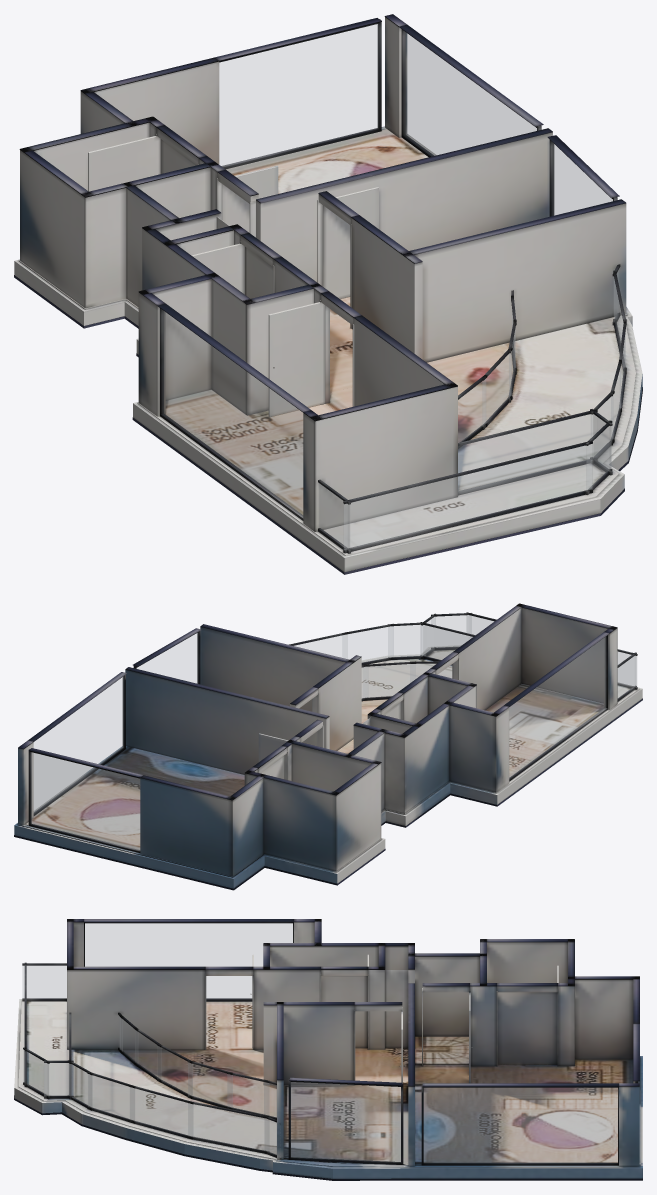
3 views of the same model, one above another, from view 1: azimuth 30°, elevation 25°; view 2: azimuth 150°, elevation 25°; view 3: azimuth 270°, elevation 25° (orthographic). The views are drawn at different scales.
Parts seen in each view (by area): view 1: plan, glass0_m, glass3_m, railg9_m, glass1_m, railg8_m, glass2_m, railg17_m, railg3_m, railg2_m, railg18_m; view 2: plan, glass0_m, glass3_m, glass1_m, glass2_m, railg13_m, railg3_m, railg14_m, railg8_m, railg18_m, railg9_m, railg12_m (+1 smaller); view 3: plan, glass1_m, glass3_m, glass2_m, railg11_m, railg12_m, railg13_m, railg4_m, railg17_m, railg5_m, railg3_m, railg15_m (+6 smaller).
Part boxes in pixels (box(x1,y1,x2,y2)): plan: box(14, 14, 642, 574); glass0_m: box(219, 24, 378, 166); glass3_m: box(162, 310, 302, 516); railg9_m: box(344, 444, 592, 549); glass1_m: box(404, 31, 536, 155); railg8_m: box(458, 414, 596, 491); glass2_m: box(552, 143, 612, 215); railg17_m: box(319, 483, 349, 549); railg3_m: box(482, 351, 511, 425); railg2_m: box(458, 379, 485, 442); railg18_m: box(586, 426, 610, 491); plan: box(14, 603, 642, 890); glass0_m: box(31, 752, 139, 850); glass3_m: box(509, 637, 605, 778); glass1_m: box(34, 677, 123, 812); glass2_m: box(137, 633, 197, 683); railg13_m: box(342, 626, 393, 662); railg3_m: box(363, 664, 415, 697); railg14_m: box(388, 625, 425, 657); railg8_m: box(423, 625, 472, 659); railg18_m: box(431, 615, 471, 647); railg9_m: box(467, 615, 636, 686); railg12_m: box(295, 634, 347, 658); plan: box(14, 919, 642, 1180); glass1_m: box(424, 1088, 617, 1162); glass3_m: box(85, 923, 292, 998); glass2_m: box(291, 1082, 400, 1162); railg11_m: box(188, 1103, 268, 1151); railg12_m: box(130, 1087, 193, 1136); railg13_m: box(88, 1074, 134, 1120); railg4_m: box(188, 1062, 232, 1107); railg17_m: box(22, 966, 66, 998); railg5_m: box(227, 1074, 269, 1115); railg3_m: box(158, 1046, 192, 1096); railg15_m: box(44, 1063, 72, 1095).
Bounding box in the file's own units: 10.28 × 2.62 × 16.06.
2 materials, 1 textured.
